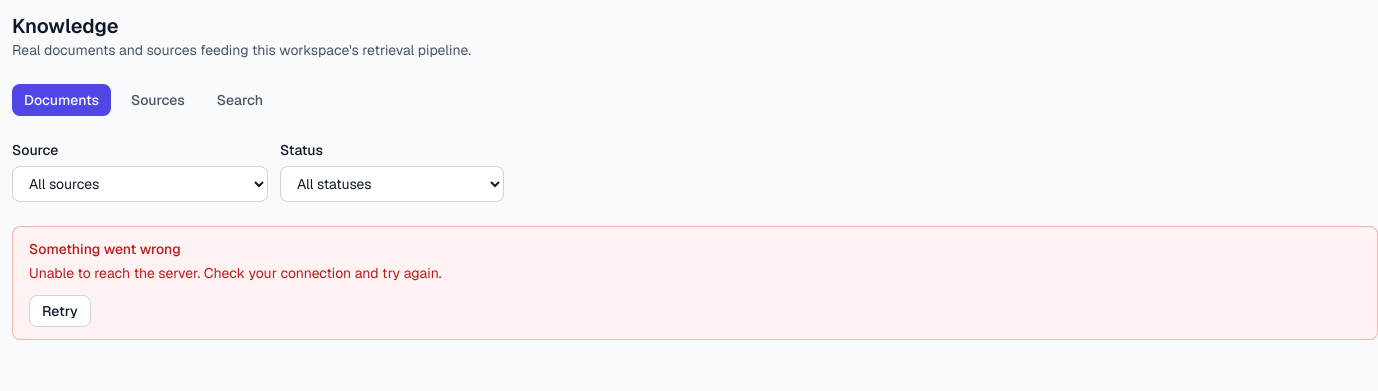
KnowledgeListPage › Documents tab › shows a network-error state (not empty) and recovers via Retry
Expected: the text "Something went wrong" is shown, [29,240,181,258]
Click the button "Retry" at (60, 311), box [29,295,91,327]
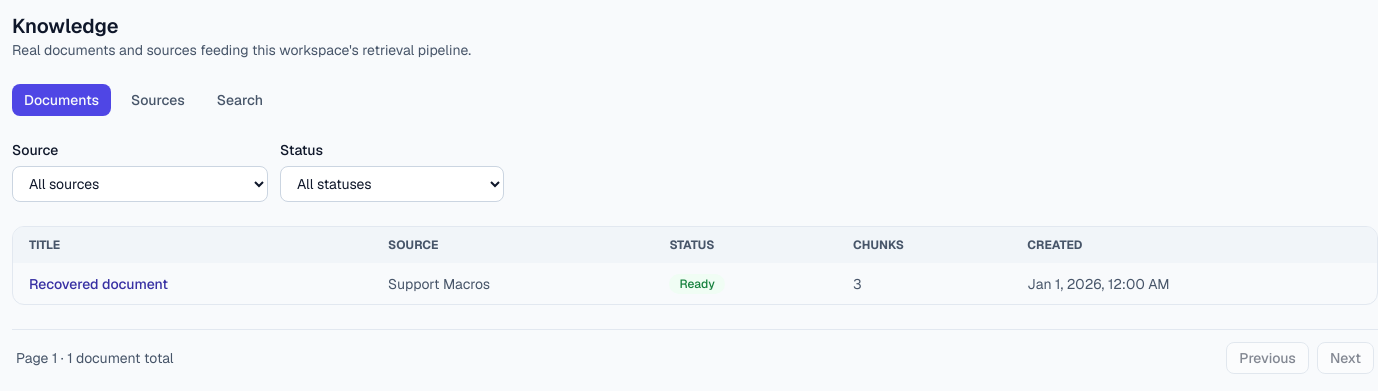
Expected: the link "Recovered document" is shown, [29,274,168,292]
